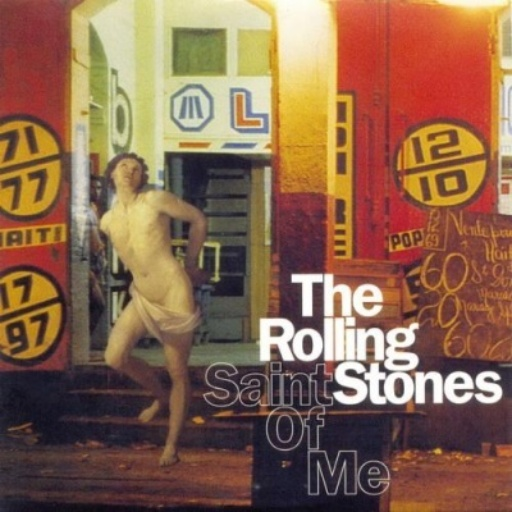hand: (184, 266, 203, 288)
